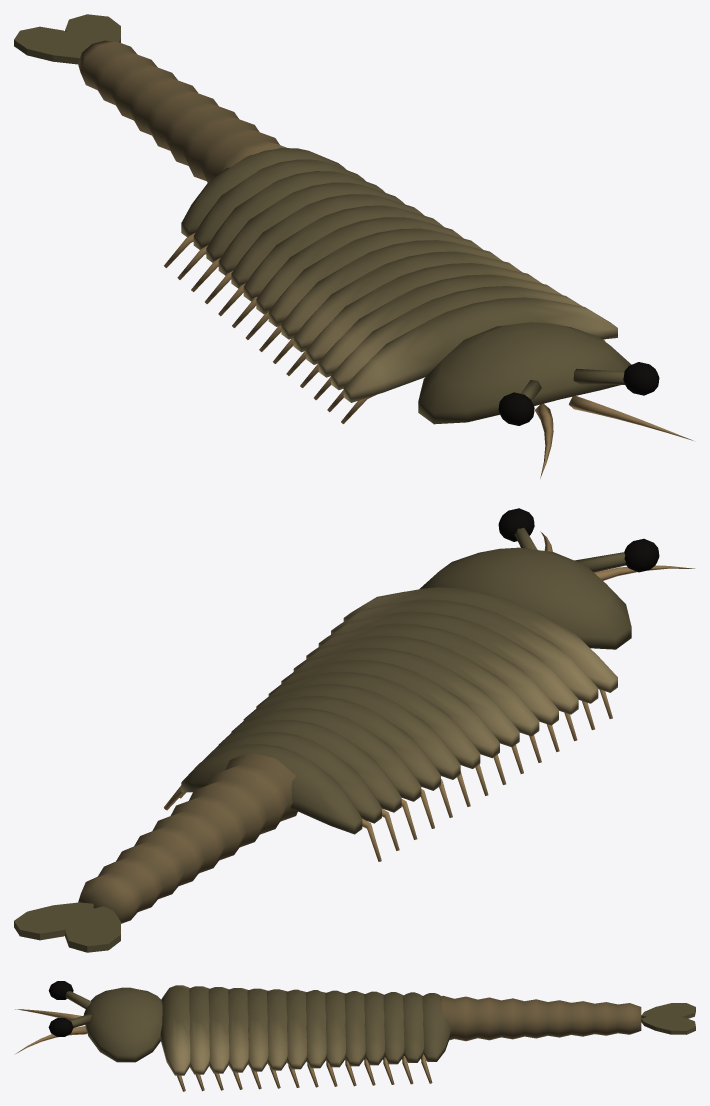
The model's file is Fuxianhuia.fbx.
The picture shows the model from 3 angles, top to bottom: view 1: azimuth 30°, elevation 25°; view 2: azimuth 150°, elevation 25°; view 3: azimuth 270°, elevation 25°; orthographic projection. The views are drawn at different scales.
Visible parts, largest first — view 1: Fuxianhuia; view 2: Fuxianhuia; view 3: Fuxianhuia.
Part boxes in pixels (box(x1,y1,x2,y2)): Fuxianhuia: box(14, 14, 693, 478); Fuxianhuia: box(14, 508, 694, 952); Fuxianhuia: box(15, 981, 695, 1091).
Size of the model in its own units: 0.5235 by 0.1723 by 1.88.
